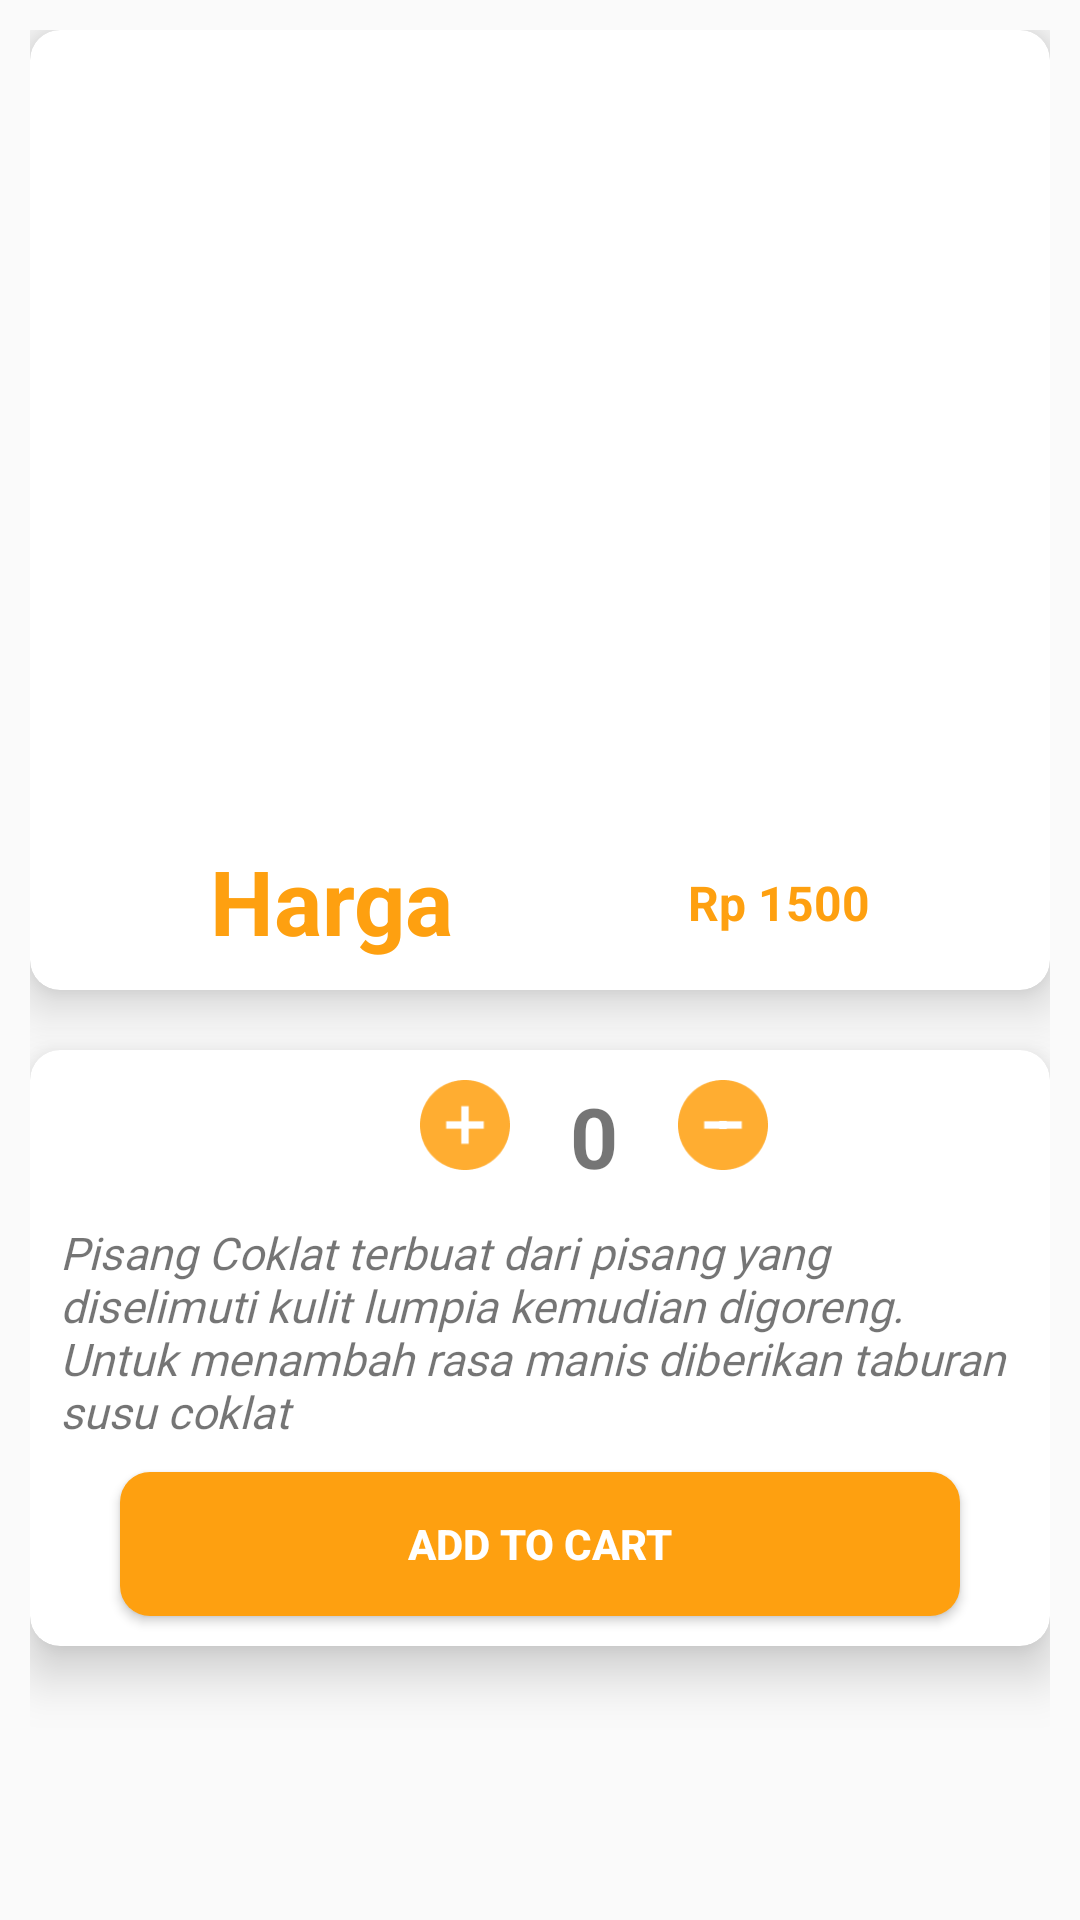

Icons on this 1080 x 1920 Android screen, each with its box as bbox=[x1, y1, x2, y2]:
minus: bbox=[678, 1080, 768, 1170]
plus: bbox=[420, 1080, 510, 1170]
